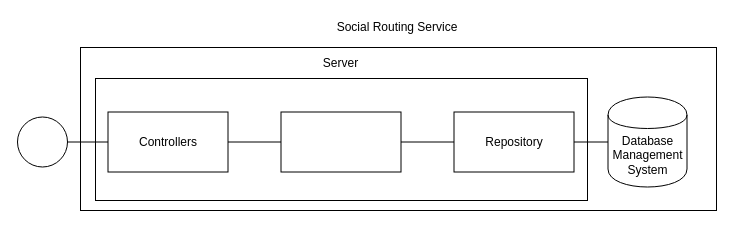
This 734x228 diagram has some shape labels left out. The shapes that lost their labels are listed below. From the top down, each one's box as (x1, y1, x2, y2) in pixels, then its label:
(16, 116, 68, 167): API
(280, 111, 401, 172): Services
